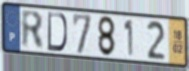1: (122, 19, 134, 59)
2: (146, 20, 167, 62)
7: (71, 11, 93, 56)
8: (96, 15, 117, 58)
D: (46, 11, 69, 54)
R: (20, 8, 46, 51)
